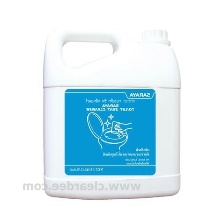cleaning_solution: (40, 25, 183, 202)
